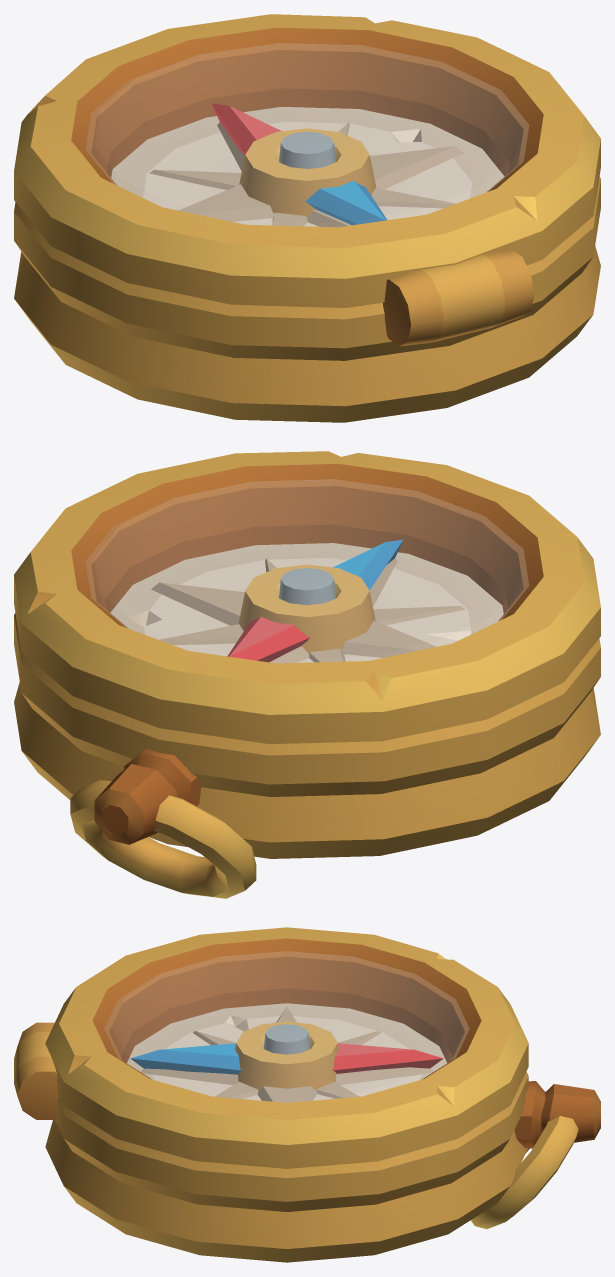
Rendered from compass_base.glb.
3 renders of one model, top to bottom at view 1: azimuth 30°, elevation 25°; view 2: azimuth 150°, elevation 25°; view 3: azimuth 270°, elevation 25°, orthographic. The views are drawn at different scales.
Parts seen in each view (by area): view 1: compass_lid, compass_base, compass_needle; view 2: compass_lid, compass_base, compass_needle; view 3: compass_lid, compass_base, compass_needle.
Boxes of the visible parts, left/top/right/bottom form: compass_lid: left=14, top=14, right=600, bottom=346; compass_base: left=14, top=88, right=600, bottom=422; compass_needle: left=211, top=103, right=387, bottom=225; compass_lid: left=14, top=451, right=600, bottom=744; compass_base: left=14, top=524, right=600, bottom=898; compass_needle: left=227, top=539, right=402, bottom=662; compass_lid: left=14, top=927, right=528, bottom=1168; compass_base: left=45, top=988, right=600, bottom=1262; compass_needle: left=130, top=1043, right=443, bottom=1074.
Size of the model in its own units: 0.574 by 0.2664 by 0.6971.
2 materials, 1 textured.
